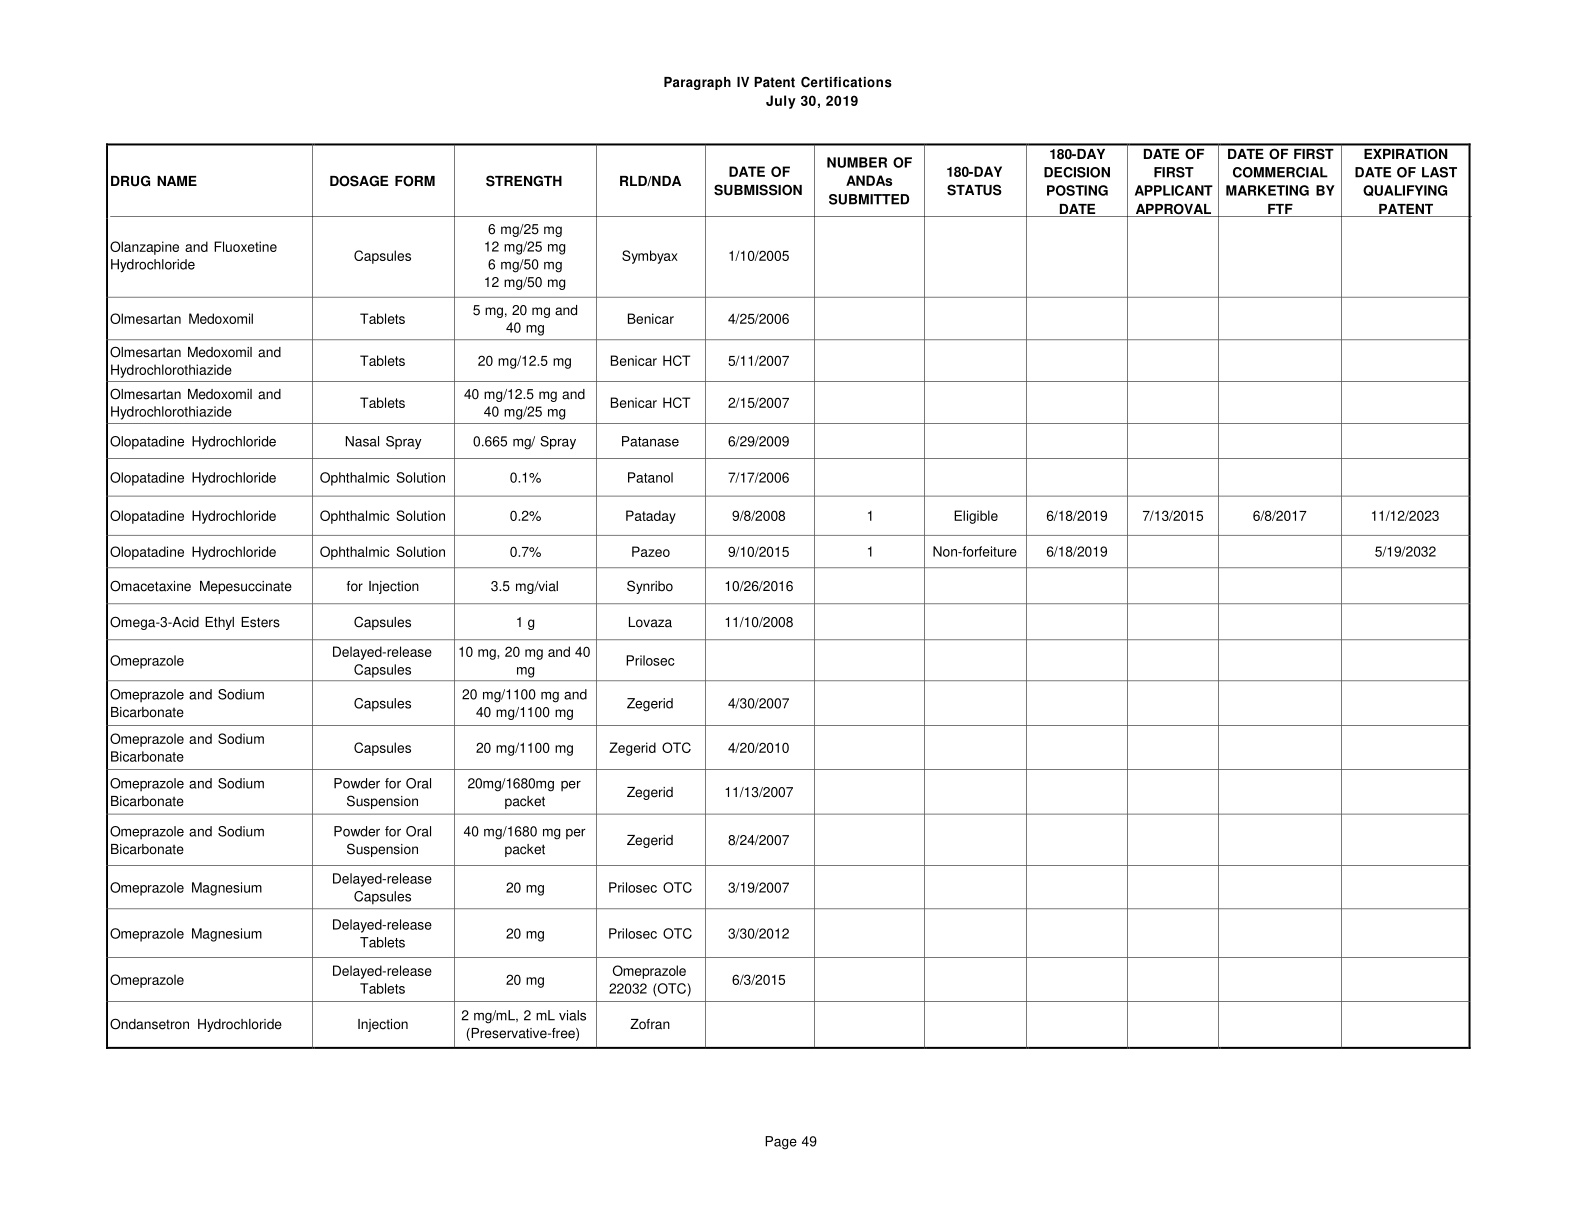full_lined: (102, 132, 1477, 1053)
